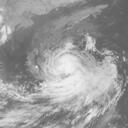cyclone: (27, 44, 115, 109)
